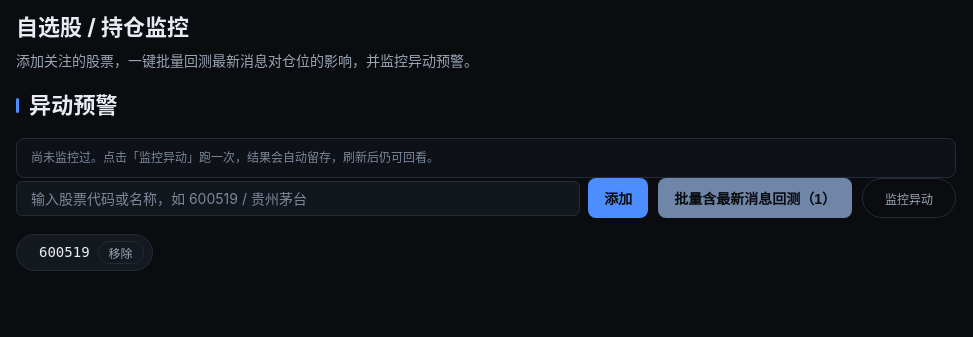
WatchlistPage 添加与移除 › 移除：点击后该股票从清单消失，清单清空即回到空态
This screenshot has width=973, height=337.
Check: the text "600519" is shown, box [39,242,90,263]
What coordinates should you click on to do the following:
click the button with aria-label "移除 600519"
I would click on:
 (121, 252)
Its box is [98,241,144,264].
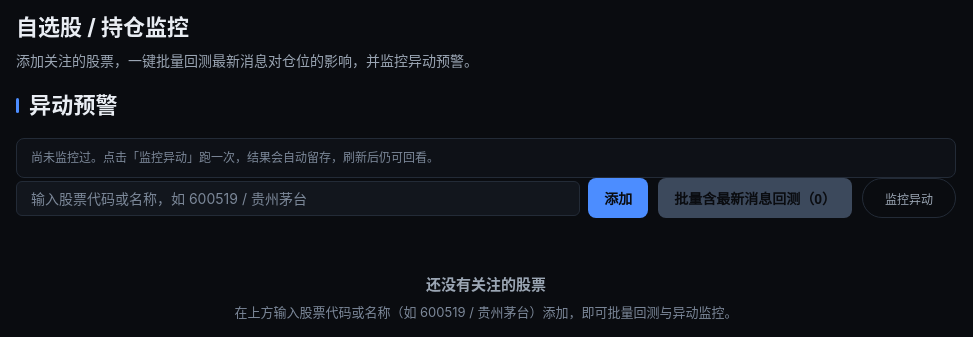
Check: the text "还没有关注的股票" is shown, box [426,275,546,294]
